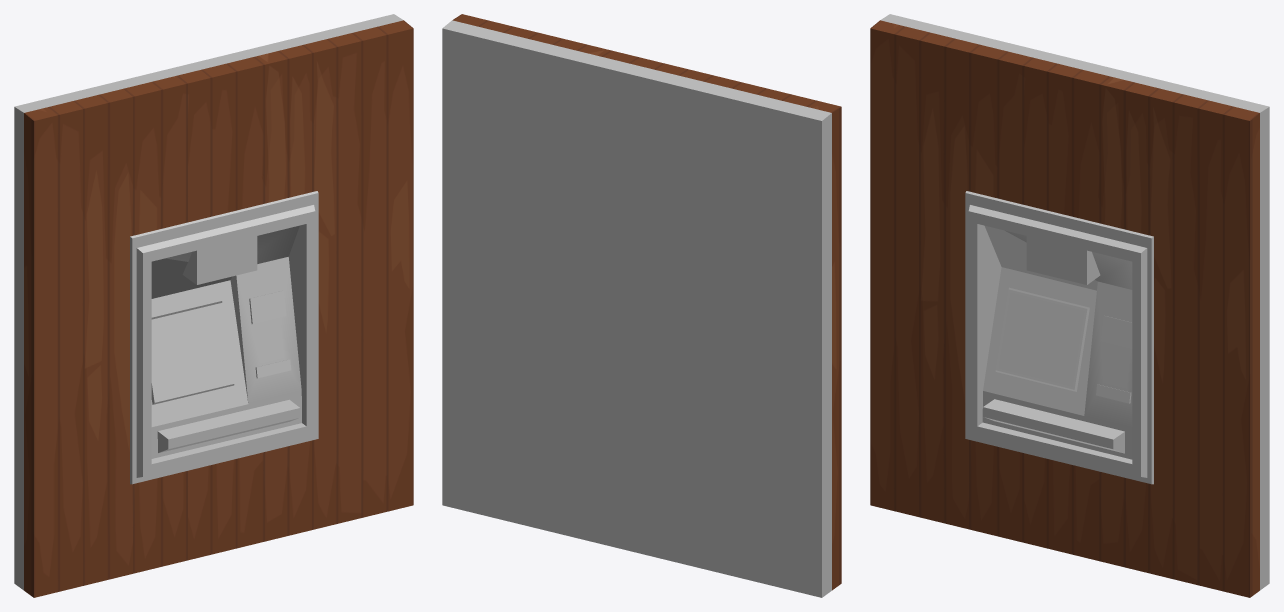
The model's file is SM_Bld_Wall_ATM_01.fbx.
3 views of the same model, side by side, from view 1: azimuth 30°, elevation 25°; view 2: azimuth 150°, elevation 25°; view 3: azimuth 330°, elevation 25° (orthographic).
Parts seen in each view (by area): view 1: SM_Bld_Wall_ATM_01; view 2: SM_Bld_Wall_ATM_01; view 3: SM_Bld_Wall_ATM_01.
Part boxes in pixels (x1,y1,x2,y2): SM_Bld_Wall_ATM_01: (14,14,413,597); SM_Bld_Wall_ATM_01: (442,14,841,597); SM_Bld_Wall_ATM_01: (870,14,1269,597).
Bounding box in the file's own units: 250 × 301 × 35.6.
